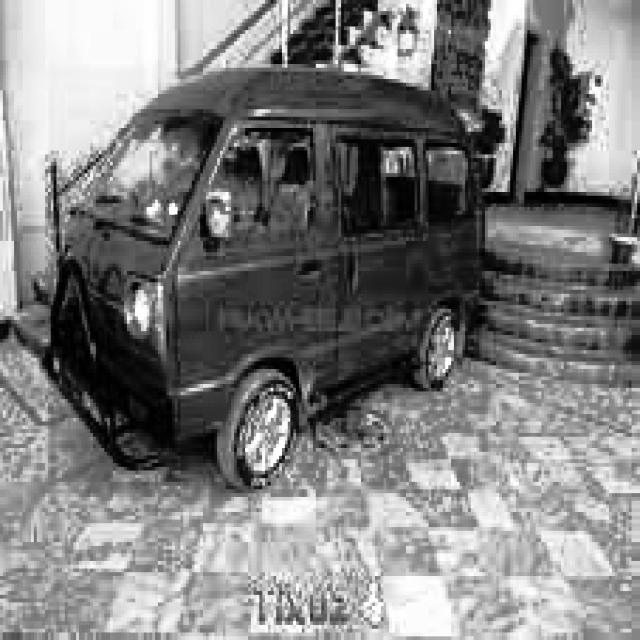LCV: (48, 68, 491, 500)
